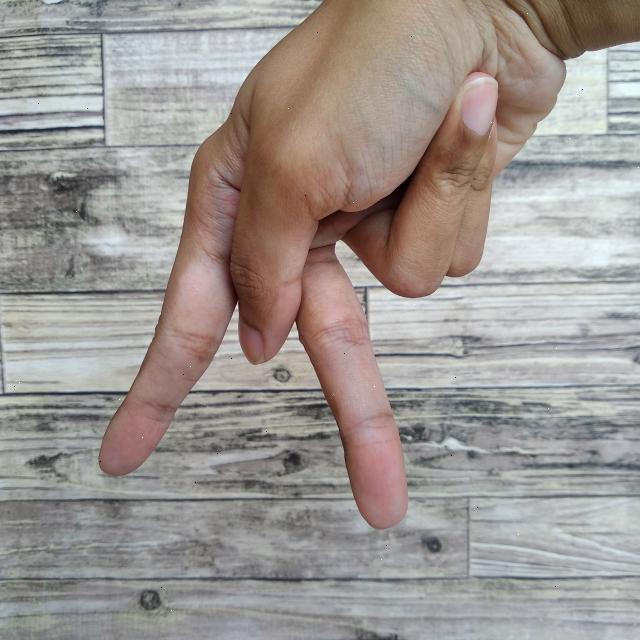P: (85, 0, 640, 537)
